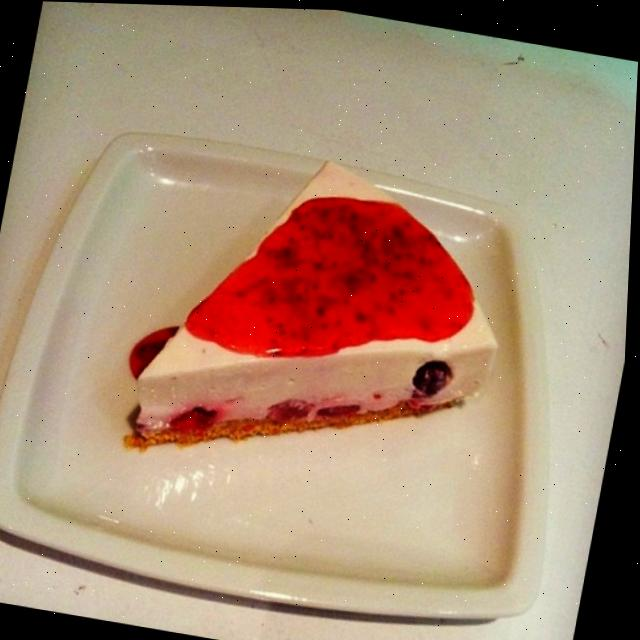蛋糕甜品: (57, 86, 558, 563)
